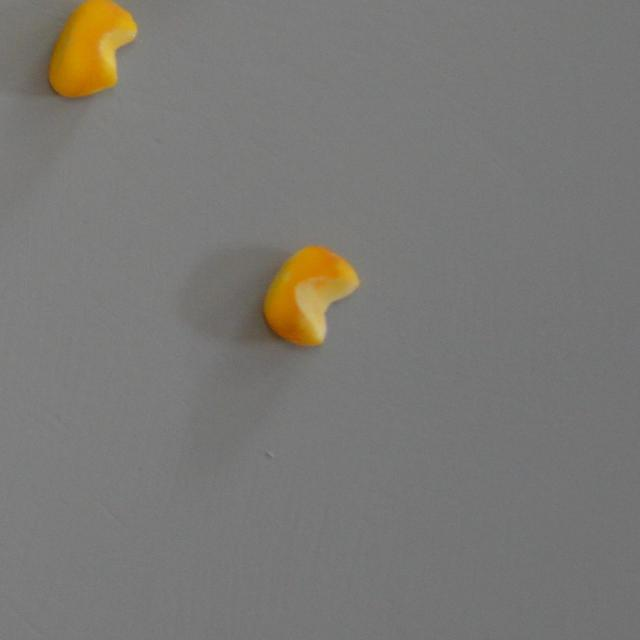no_canjicado: (262, 244, 360, 346), (44, 0, 134, 102)
